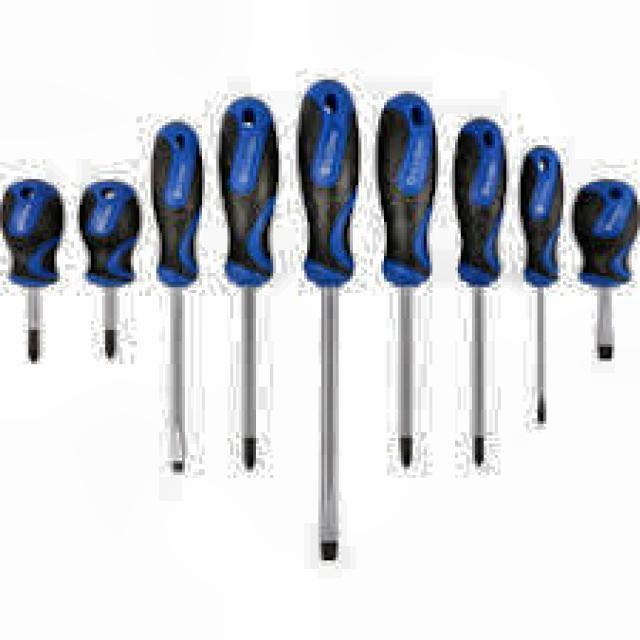screwdriver: (298, 80, 360, 558), (376, 88, 438, 467), (221, 98, 275, 470), (452, 115, 506, 468), (153, 120, 203, 472), (520, 145, 564, 423), (571, 179, 636, 360), (3, 178, 61, 362), (81, 180, 137, 360)
